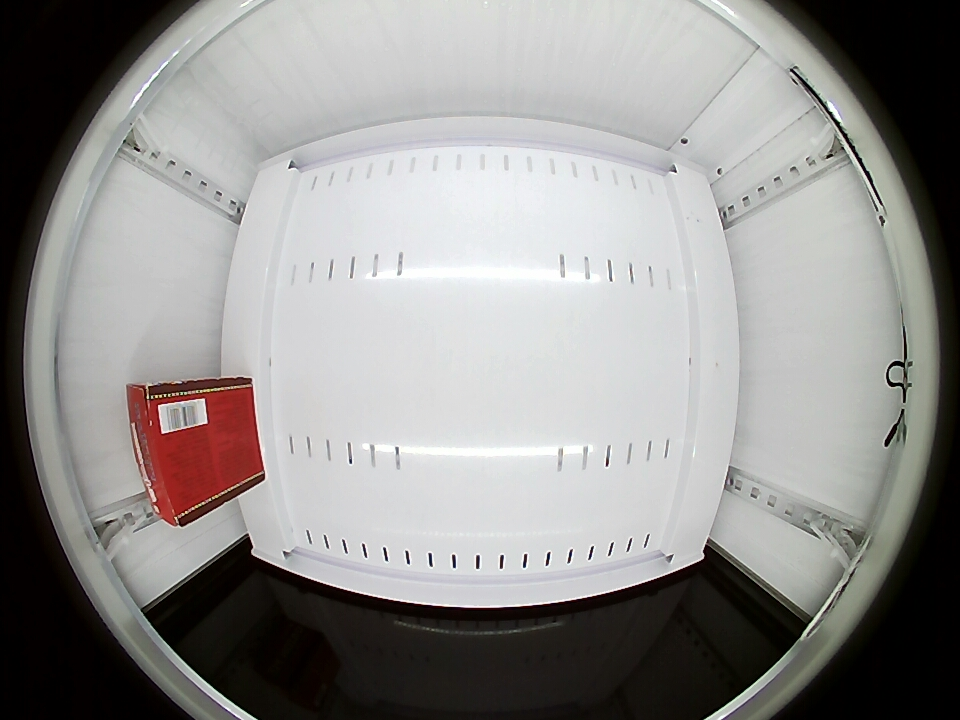haoliyou: (129, 381, 227, 526)
